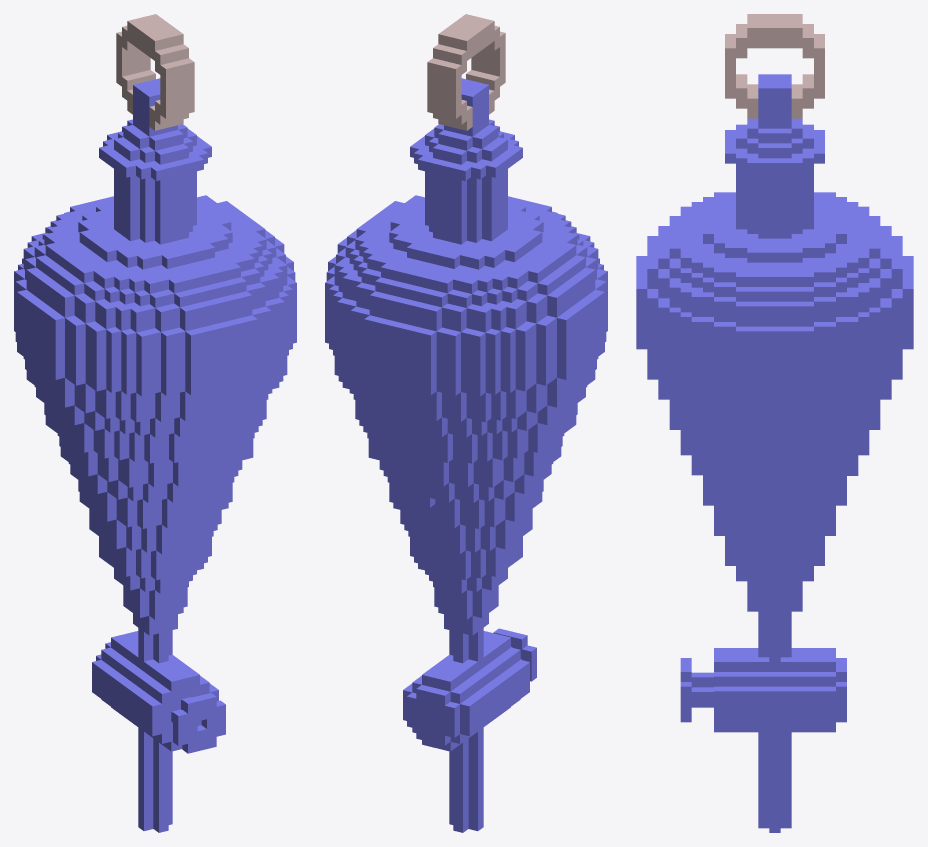
The model's file is Flask8-5-1.fbx.
3 renders of one model, left to right at view 1: azimuth 30°, elevation 25°; view 2: azimuth 150°, elevation 25°; view 3: azimuth 270°, elevation 25°, orthographic.
Parts seen in each view (by area): view 1: Flask8-5-1.001, Flask8-5-1.002, Flask8-5-1.003, Flask8-5-1.004; view 2: Flask8-5-1.001, Flask8-5-1.002, Flask8-5-1.003, Flask8-5-1.004; view 3: Flask8-5-1.001, Flask8-5-1.002, Flask8-5-1.003, Flask8-5-1.004.
Boxes of the visible parts, bbox=[...] form: Flask8-5-1.001: bbox=[14, 14, 296, 366]; Flask8-5-1.002: bbox=[14, 301, 296, 663]; Flask8-5-1.003: bbox=[97, 636, 225, 832]; Flask8-5-1.004: bbox=[92, 631, 138, 710]; Flask8-5-1.001: bbox=[325, 14, 607, 366]; Flask8-5-1.002: bbox=[325, 301, 607, 663]; Flask8-5-1.003: bbox=[409, 628, 536, 832]; Flask8-5-1.004: bbox=[403, 671, 474, 751]; Flask8-5-1.001: bbox=[636, 14, 913, 361]; Flask8-5-1.002: bbox=[636, 319, 913, 661]; Flask8-5-1.003: bbox=[680, 648, 824, 832]; Flask8-5-1.004: bbox=[825, 648, 846, 732].
Bounding box in the file's own units: 2.5 × 8 × 2.5.
